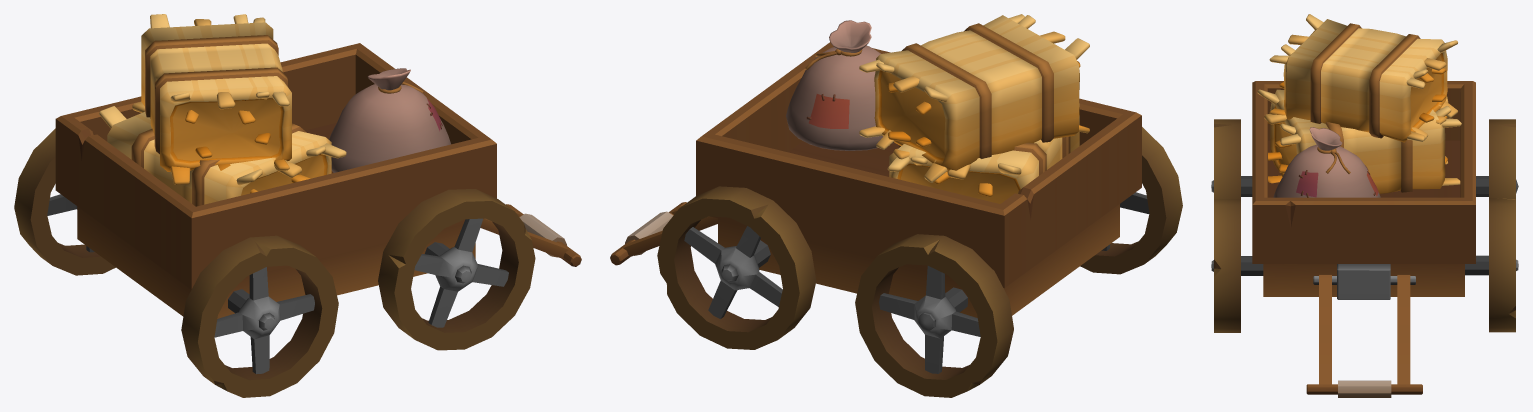
The model's file is obj_HayCart.fbx.
3 views of the same model, side by side, from view 1: azimuth 30°, elevation 25°; view 2: azimuth 150°, elevation 25°; view 3: azimuth 270°, elevation 25° (orthographic). The views are drawn at different scales.
Visible parts, largest first — view 1: obj_HayCart; view 2: obj_HayCart; view 3: obj_HayCart.
Boxes of the visible parts, box(x1,y1,x2,y2) form: obj_HayCart: box(14, 14, 581, 397); obj_HayCart: box(610, 14, 1182, 397); obj_HayCart: box(1211, 14, 1518, 397).
Size of the model in its own units: 124 by 72.89 by 90.45.
